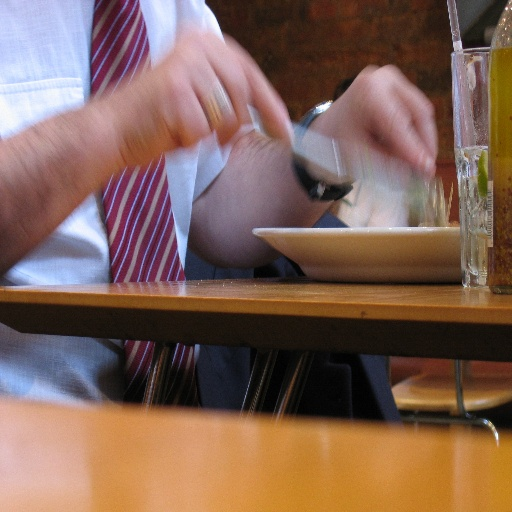hand: (105, 21, 295, 161), (301, 59, 454, 199)
